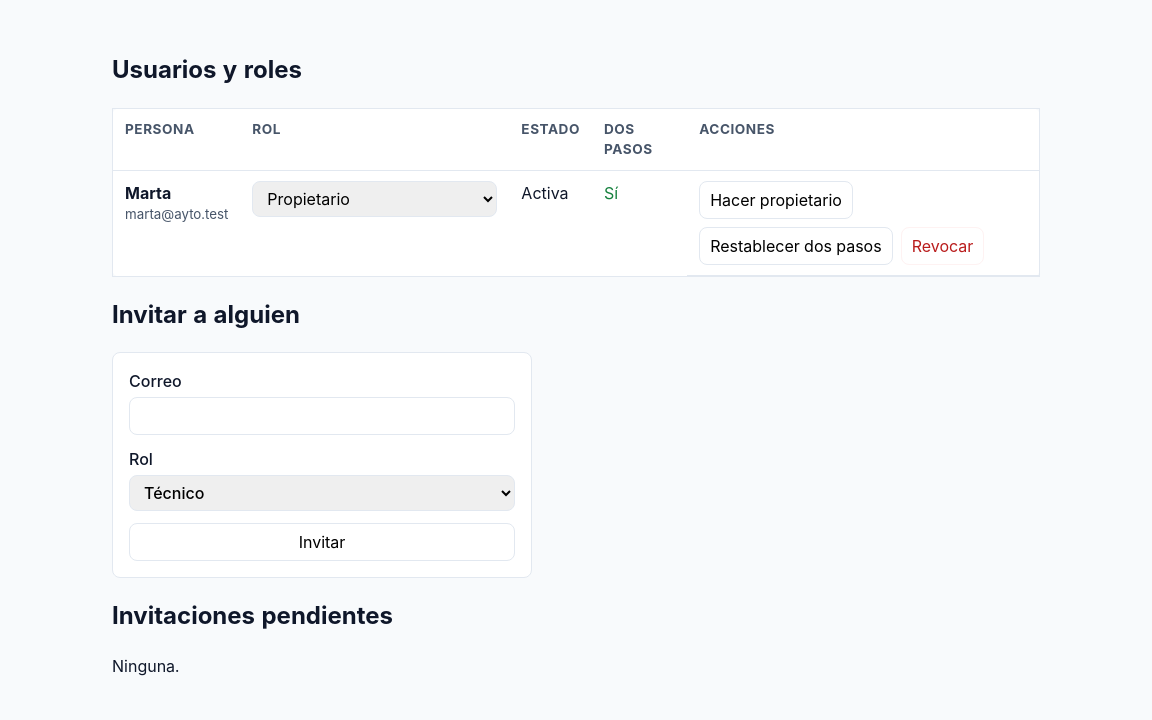
P19 · Usuarios y roles › cuando el servidor impide dejar la organización sin propietario, enseña su motivo
Select "Técnico" in the 1st dropdown: (375, 199) [252,181,497,217]
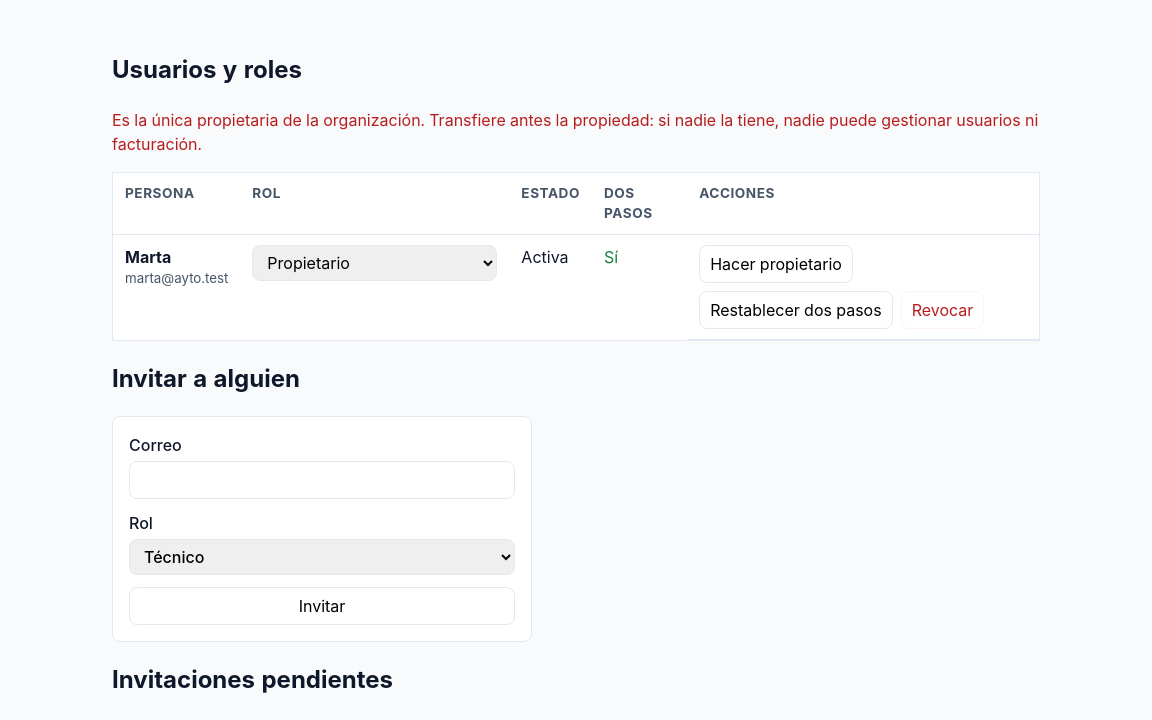
Expected: the text "Transfiere antes la propiedad" is shown, [112,110,1038,154]
